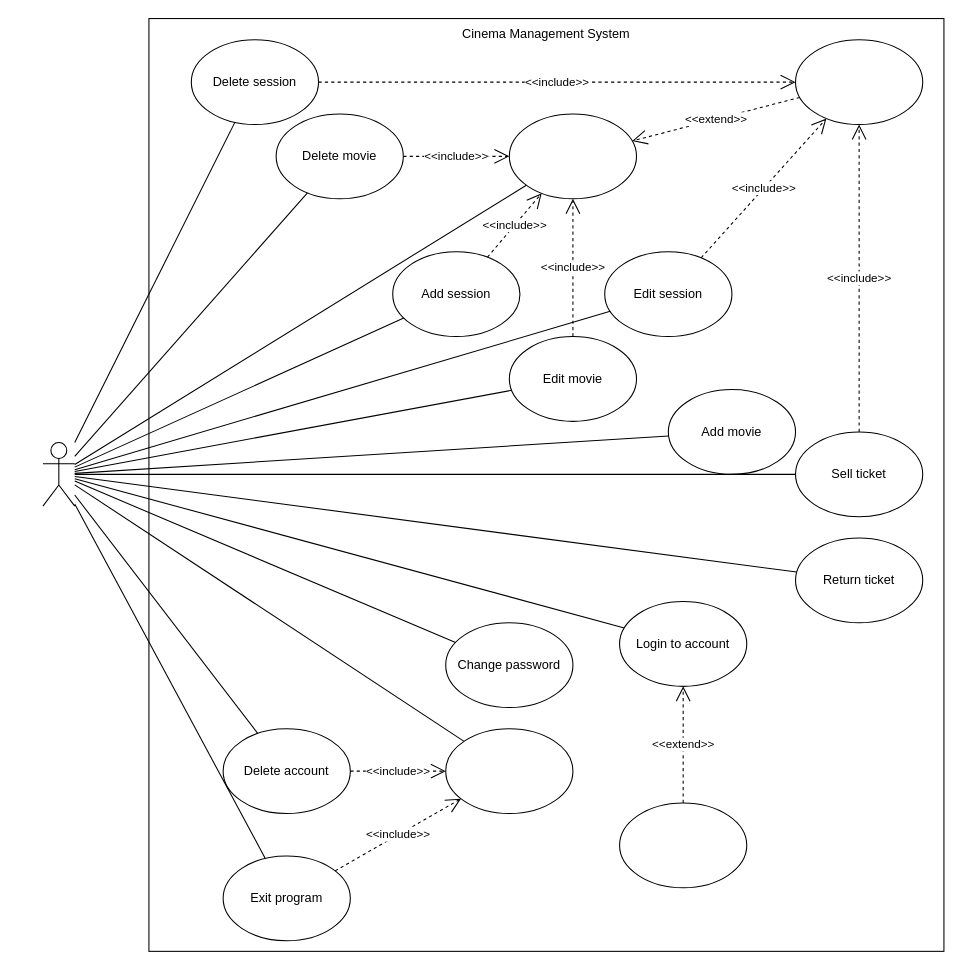
The diagram is 962 pixels wide and 970 high, and some of its shapes have lost their labels. Here are the shapes that lost their labels. From the top down, the centre of each, then its label:
At point (858, 82): "Display sessions for a movie".
At point (572, 156): "Display movies".
At point (58, 473): "Cinema admin".
At point (509, 771): "Log out from account".
At point (683, 845): "Create account".
